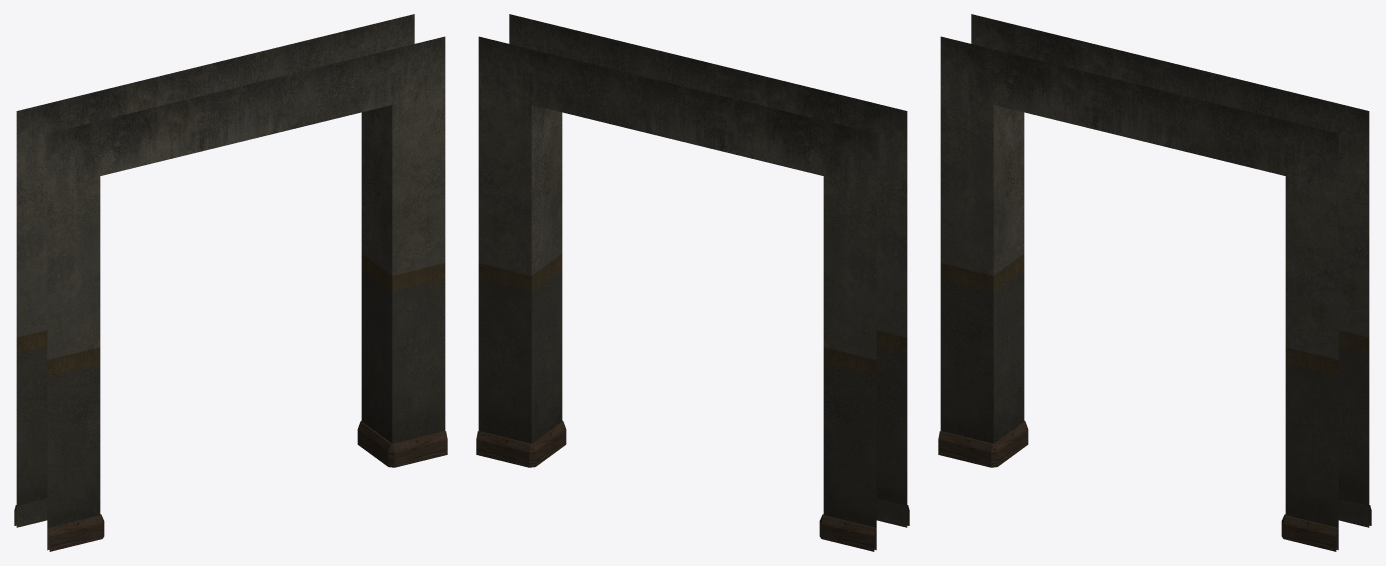
Rendered from arc_1_wall_1.obj.
3 renders of one model, left to right at view 1: azimuth 30°, elevation 25°; view 2: azimuth 150°, elevation 25°; view 3: azimuth 330°, elevation 25°, orthographic.
Parts seen in each view (by area): view 1: arc_1_wall_1; view 2: arc_1_wall_1; view 3: arc_1_wall_1.
Boxes of the visible parts, x1,y1,x2,y2 form: arc_1_wall_1: (14,14,447,551); arc_1_wall_1: (476,14,909,551); arc_1_wall_1: (938,14,1371,551).
Size of the model in its own units: 3 by 3 by 0.46.
